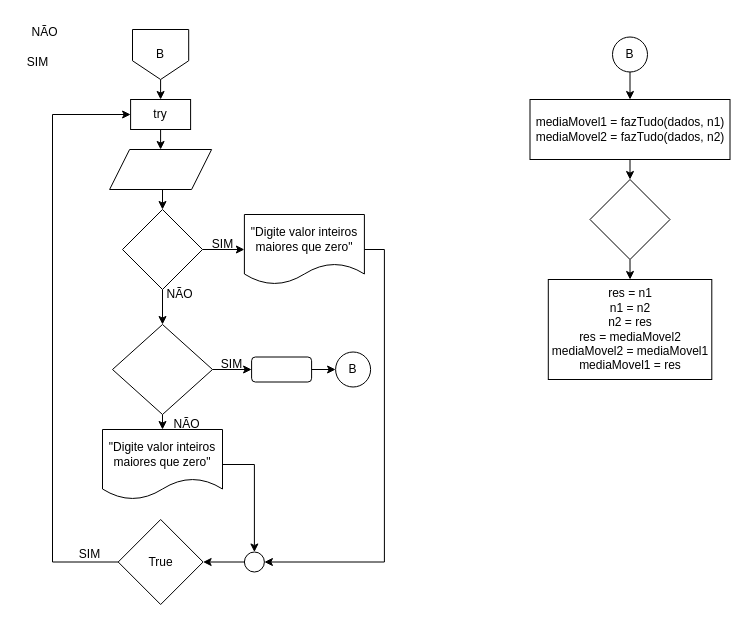
This 747x622 diagram has some shape labels left out. Each missing label, with the centre of its shape:
"break" goes at (281,369).
"erro" goes at (162,249).
"n1,n2" goes at (160,169).
"n1>0 and n2>0" goes at (162,369).
"n1>n2" goes at (629,219).
